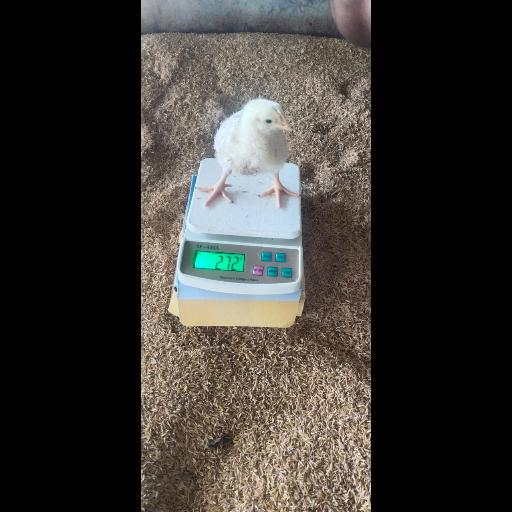chick: (195, 99, 301, 208)
